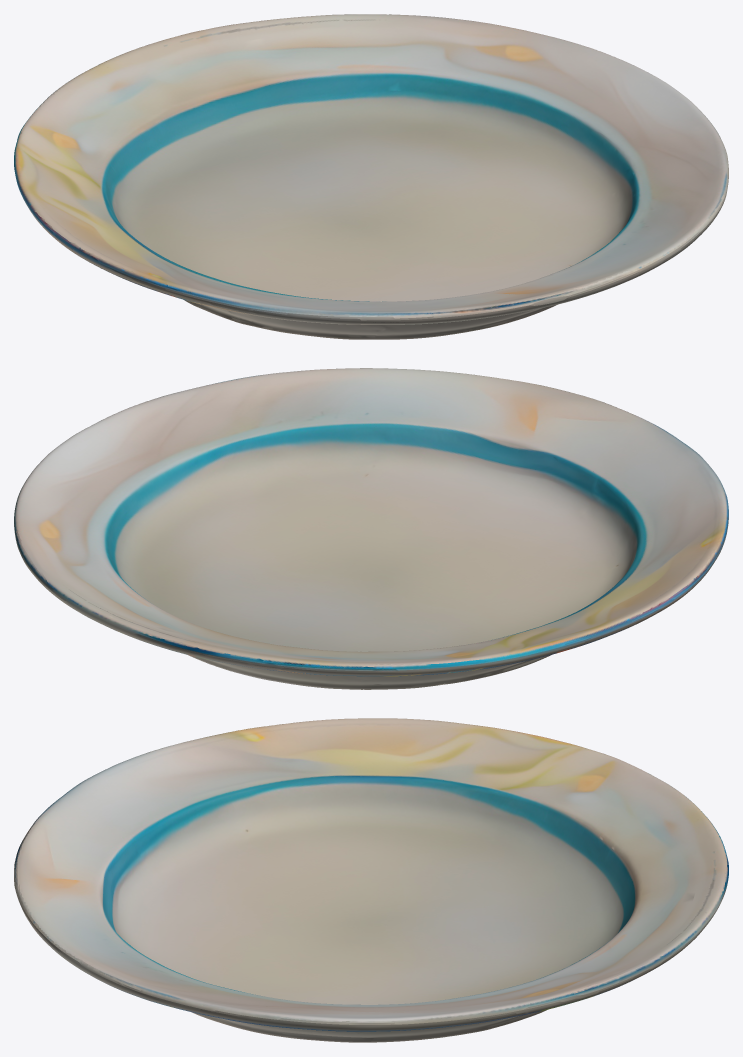
Rendered from iter_8.glb.
3 renders of one model, top to bottom at view 1: azimuth 30°, elevation 25°; view 2: azimuth 150°, elevation 25°; view 3: azimuth 270°, elevation 25°, orthographic.
Parts seen in each view (by area): view 1: textured_mesh; view 2: textured_mesh; view 3: textured_mesh.
Boxes of the visible parts, box(x1,y1,x2,y2) form: textured_mesh: box(14, 14, 728, 339); textured_mesh: box(14, 368, 728, 689); textured_mesh: box(14, 718, 728, 1042).
Bounding box in the file's own units: 1.96 × 0.2331 × 1.97.
1 material, 1 textured.
